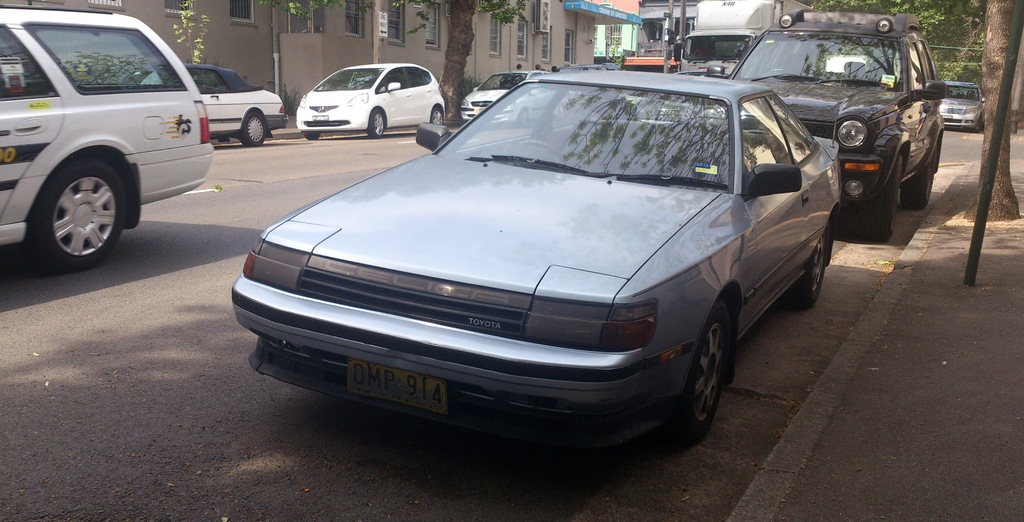Car: (229, 66, 841, 450), (0, 1, 215, 275), (727, 8, 940, 237), (117, 61, 285, 143), (297, 60, 439, 136), (460, 69, 540, 123), (936, 82, 984, 130)
